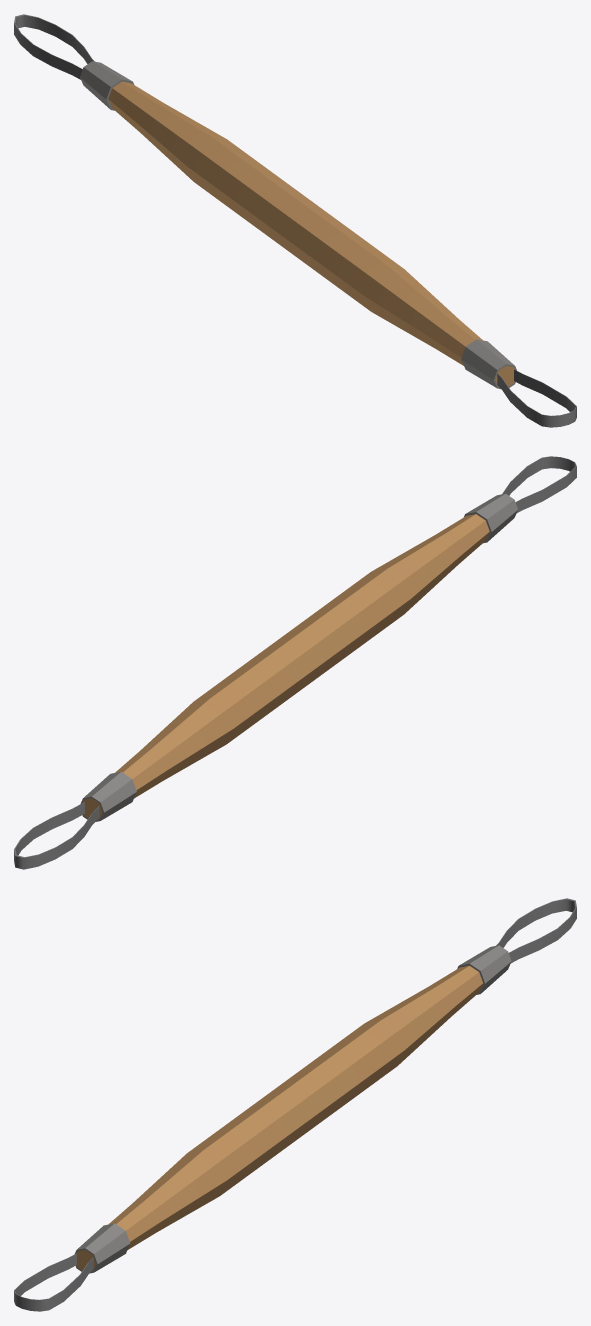
The model's file is atoll_potteryTool2.fbx.
3 views of the same model, one above another, from view 1: azimuth 30°, elevation 25°; view 2: azimuth 150°, elevation 25°; view 3: azimuth 330°, elevation 25° (orthographic).
Visible parts, largest first — view 1: Handle, Loop, Loop1, Cap1, Cap2; view 2: Handle, Loop, Loop1, Cap2, Cap1; view 3: Handle, Loop, Loop1, Cap1, Cap2.
Boxes of the visible parts, x1,y1,x2,y2 form: Handle: [108, 81, 514, 386]; Loop: [14, 14, 94, 79]; Loop1: [497, 369, 576, 427]; Cap1: [461, 339, 516, 388]; Cap2: [80, 61, 134, 110]; Handle: [83, 514, 489, 819]; Loop: [14, 802, 99, 869]; Loop1: [502, 456, 576, 512]; Cap2: [80, 771, 136, 821]; Cap1: [463, 493, 517, 543]; Handle: [76, 965, 483, 1271]; Loop: [496, 898, 576, 963]; Loop1: [14, 1253, 93, 1311]; Cap1: [75, 1223, 130, 1273]; Cap2: [457, 945, 511, 994].
Bounding box in the file's own units: 1.85 × 1.85 × 37.29.
